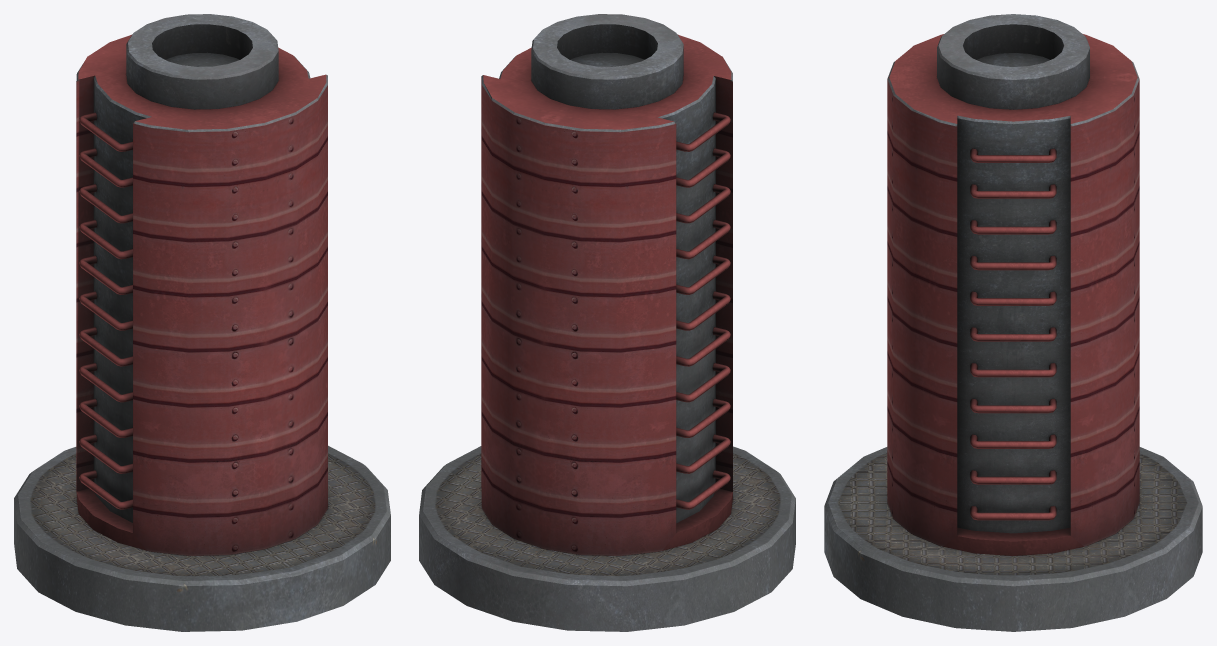
The model's file is SM_BulbSocket.FBX.
The picture shows the model from 3 angles, left to right: view 1: azimuth 30°, elevation 25°; view 2: azimuth 150°, elevation 25°; view 3: azimuth 270°, elevation 25°; orthographic projection.
Parts seen in each view (by area): view 1: Cylinder091; view 2: Cylinder091; view 3: Cylinder091.
Part boxes in pixels (x1,y1,x2,y2): Cylinder091: (14,14,390,631); Cylinder091: (419,14,795,631); Cylinder091: (824,14,1202,631).
Size of the model in its own units: 96 by 142 by 96.
